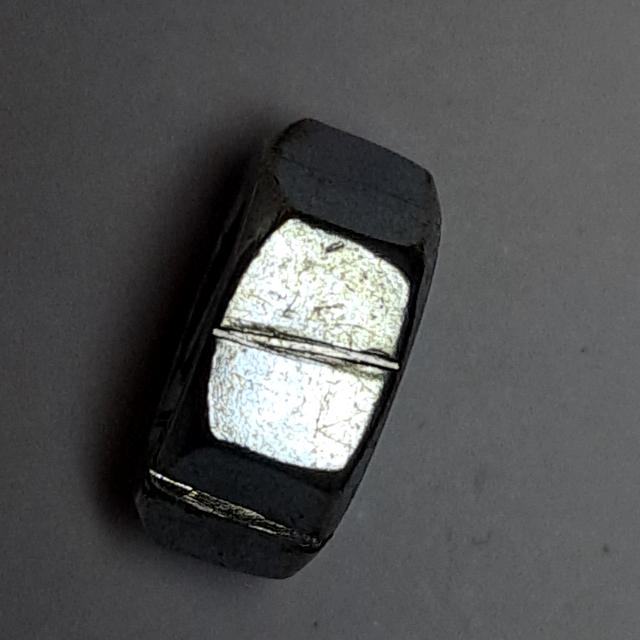Side_Scratches: (117, 107, 455, 598)
